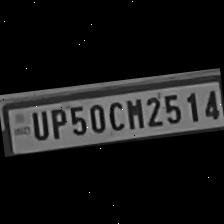0: (84, 100, 107, 134)
1: (180, 88, 202, 123)
2: (140, 92, 164, 128)
4: (197, 84, 222, 119)
5: (64, 101, 88, 136), (159, 90, 183, 124)
C: (104, 98, 126, 132)
M: (120, 95, 144, 130)
P: (46, 104, 68, 140)
U: (25, 106, 49, 142)
